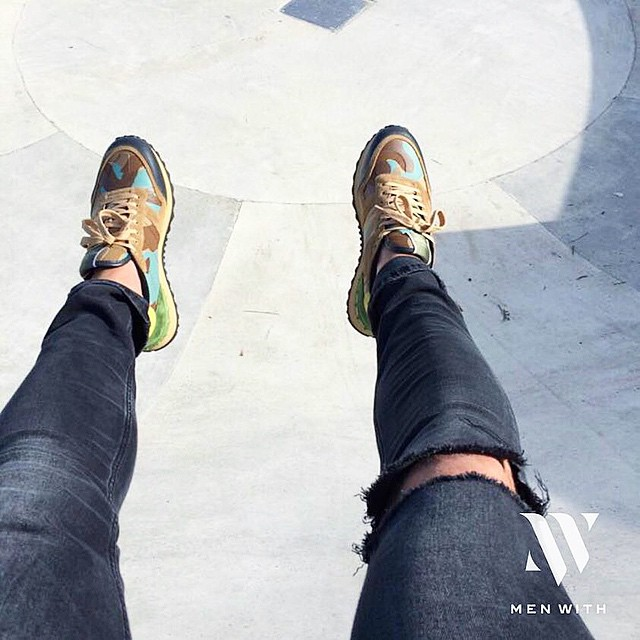sneaker: (57, 126, 196, 362), (331, 115, 453, 348)
